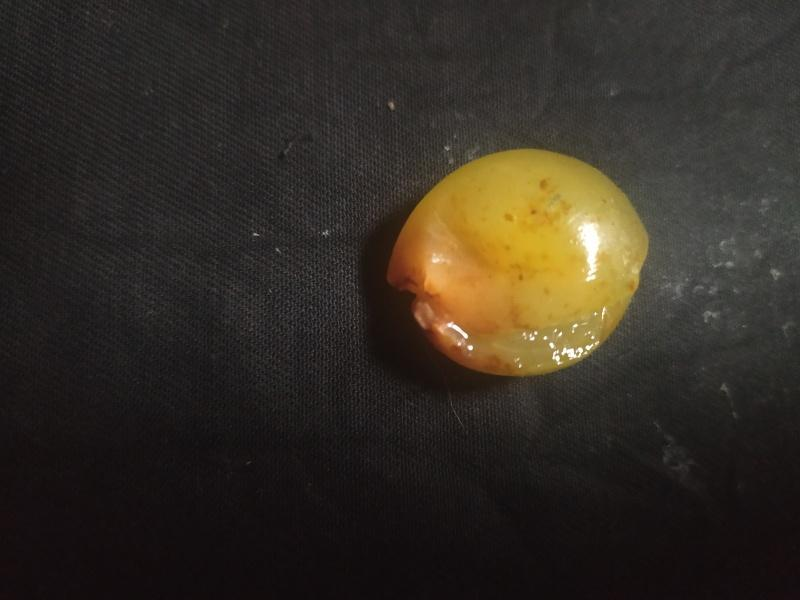Grape Overripe: (385, 146, 650, 379)
